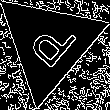P_SW: (19, 13, 78, 75)
